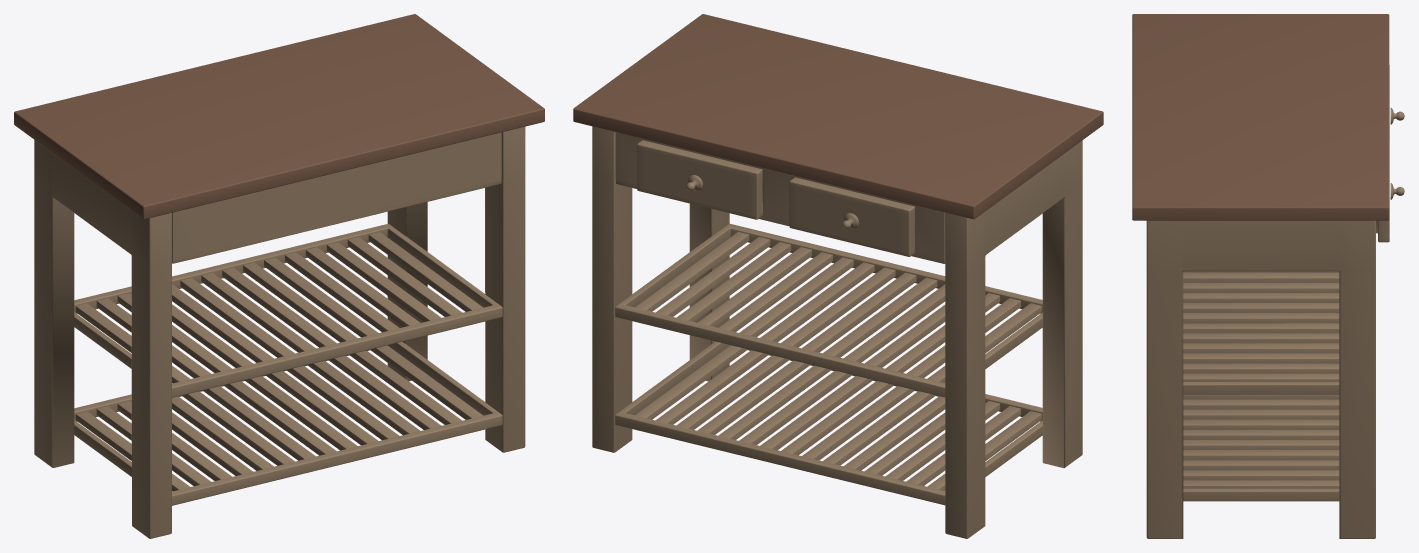
File: Cabinet.fbx
3 renders of one model, left to right at view 1: azimuth 30°, elevation 25°; view 2: azimuth 150°, elevation 25°; view 3: azimuth 270°, elevation 25°, orthographic.
Parts seen in each view (by area): view 1: Kitchen_Table__Top.005; view 2: Kitchen_Table__Top.005; view 3: Kitchen_Table__Top.005.
Boxes of the visible parts, x1,y1,x2,y2 form: Kitchen_Table__Top.005: [14, 14, 544, 538]; Kitchen_Table__Top.005: [573, 14, 1103, 538]; Kitchen_Table__Top.005: [1132, 14, 1404, 538].
Bounding box in the file's own units: 750 × 610 × 446.
